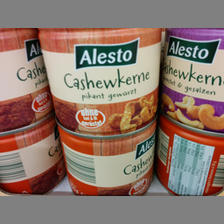nuts: (37, 28, 163, 138), (54, 119, 157, 196), (157, 29, 224, 135), (155, 111, 224, 196)
